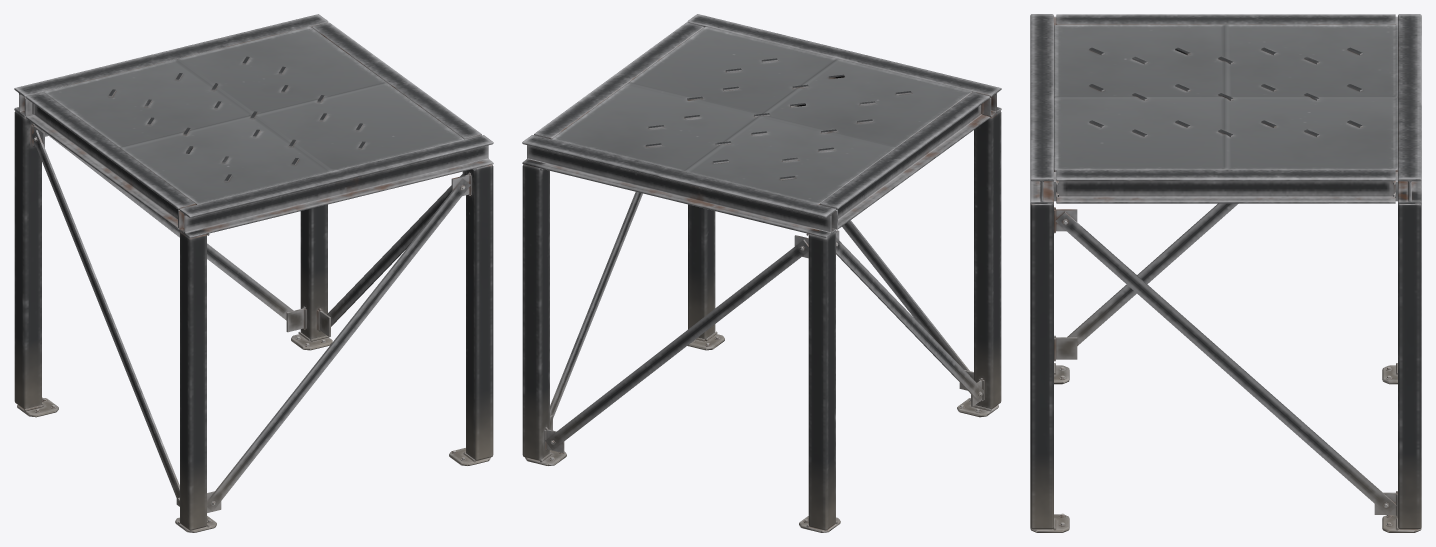
The model's file is SM_Frame2m.glb.
3 renders of one model, left to right at view 1: azimuth 30°, elevation 25°; view 2: azimuth 150°, elevation 25°; view 3: azimuth 270°, elevation 25°, orthographic. The views are drawn at different scales.
Parts seen in each view (by area): view 1: SM_Frame2m; view 2: SM_Frame2m; view 3: SM_Frame2m.
Boxes of the visible parts, x1,y1,x2,y2 form: SM_Frame2m: (14,14,493,532); SM_Frame2m: (522,14,1001,532); SM_Frame2m: (1030,14,1421,532).
Bounding box in the file's own units: 2 × 2 × 2.
4 materials, 4 textured.
